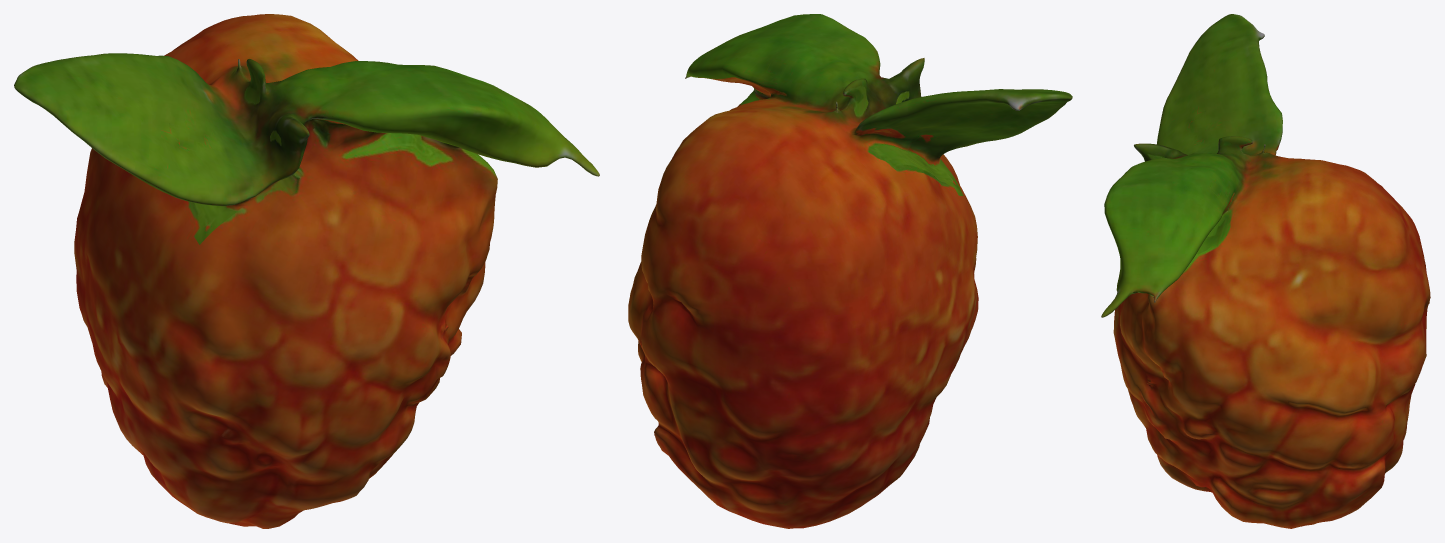
Rendered from baya_frambu.obj.
3 views of the same model, side by side, from view 1: azimuth 30°, elevation 25°; view 2: azimuth 150°, elevation 25°; view 3: azimuth 270°, elevation 25° (orthographic). The views are drawn at different scales.
Parts seen in each view (by area): view 1: mesh; view 2: mesh; view 3: mesh.
Part boxes in pixels (<box>): mesh: <box>14,14,599,528</box>; mesh: <box>628,14,1072,528</box>; mesh: <box>1101,14,1430,528</box>.
Size of the model in its own units: 3.77 by 3.8 by 2.79.
